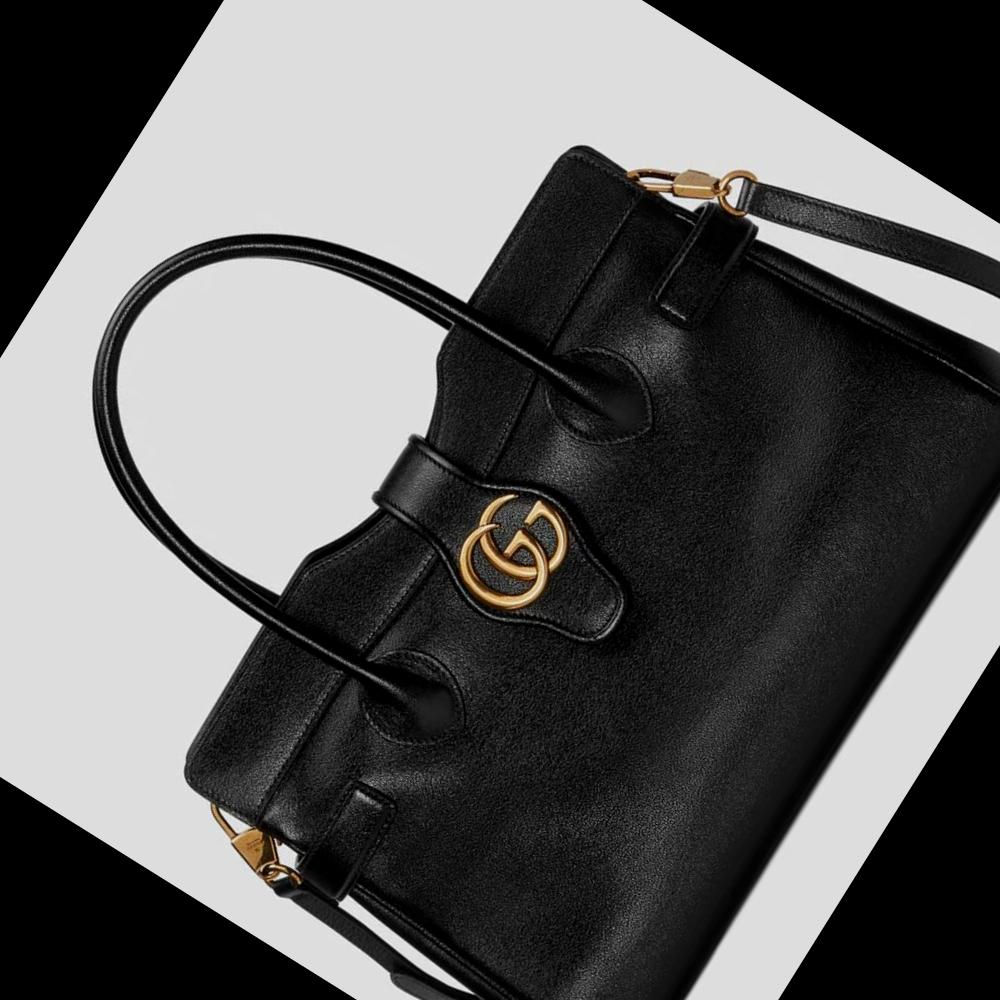GUCCI: (442, 474, 584, 624)
